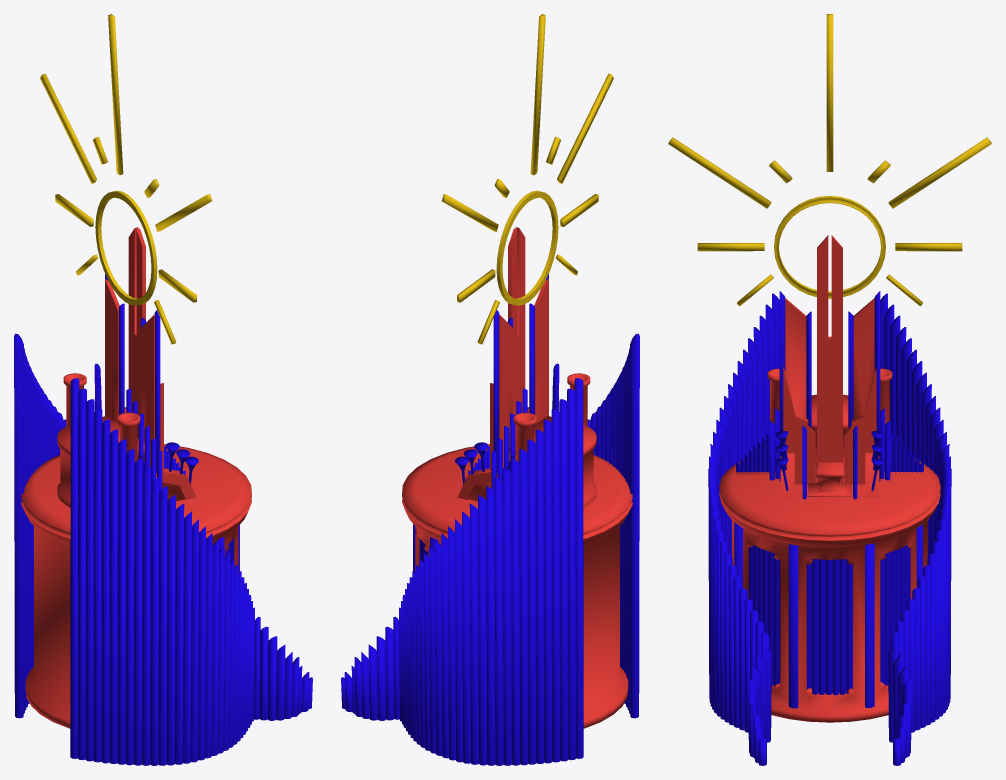
File: SM_Throne.fbx
The picture shows the model from 3 angles, left to right: view 1: azimuth 30°, elevation 25°; view 2: azimuth 150°, elevation 25°; view 3: azimuth 270°, elevation 25°; orthographic projection. The views are drawn at different scales.
Visible parts, largest first — view 1: SM_Throne; view 2: SM_Throne; view 3: SM_Throne.
Boxes of the visible parts, x1,y1,x2,y2 form: SM_Throne: (14, 14, 312, 765); SM_Throne: (341, 14, 639, 765); SM_Throne: (668, 14, 991, 765).
Bounding box in the file's own units: 8.61 × 24.05 × 10.44.
